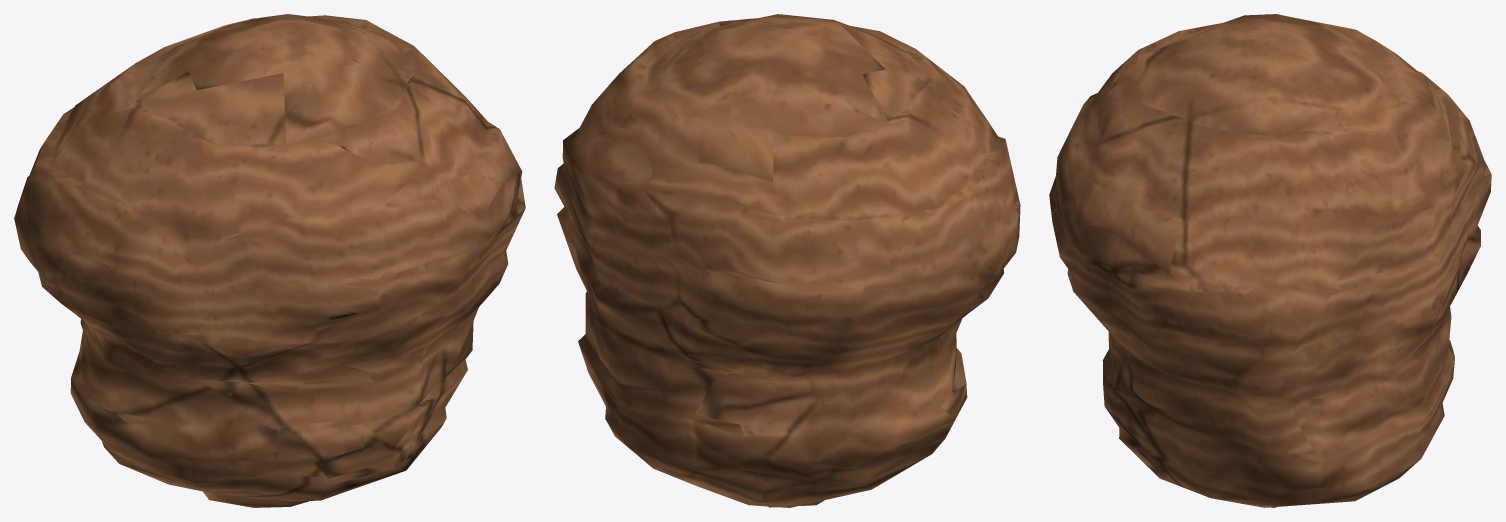
File: rock_desert_lod1.glb
3 renders of one model, left to right at view 1: azimuth 30°, elevation 25°; view 2: azimuth 150°, elevation 25°; view 3: azimuth 270°, elevation 25°, orthographic. The views are drawn at different scales.
Visible parts, largest first — view 1: rock_desert_lod1; view 2: rock_desert_lod1; view 3: rock_desert_lod1.
Boxes of the visible parts, box(x1,y1,x2,y2) form: rock_desert_lod1: box(14, 14, 525, 507); rock_desert_lod1: box(554, 14, 1020, 507); rock_desert_lod1: box(1049, 14, 1491, 507).
Bounding box in the file's own units: 2.07 × 2.05 × 1.81.
Materials: 1 (1 with a texture image).
